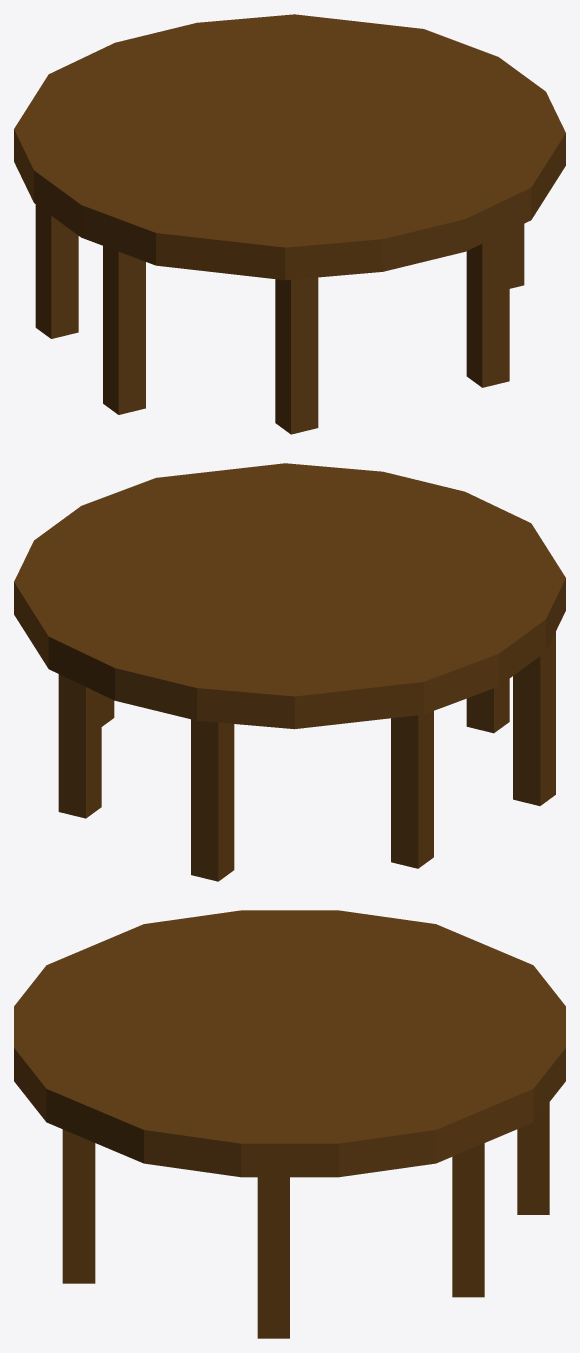
File: obj_table_22_0.obj
3 renders of one model, top to bottom at view 1: azimuth 30°, elevation 25°; view 2: azimuth 150°, elevation 25°; view 3: azimuth 270°, elevation 25°, orthographic. The views are drawn at different scales.
Size of the model in its own units: 1.86 by 0.75 by 1.86.
